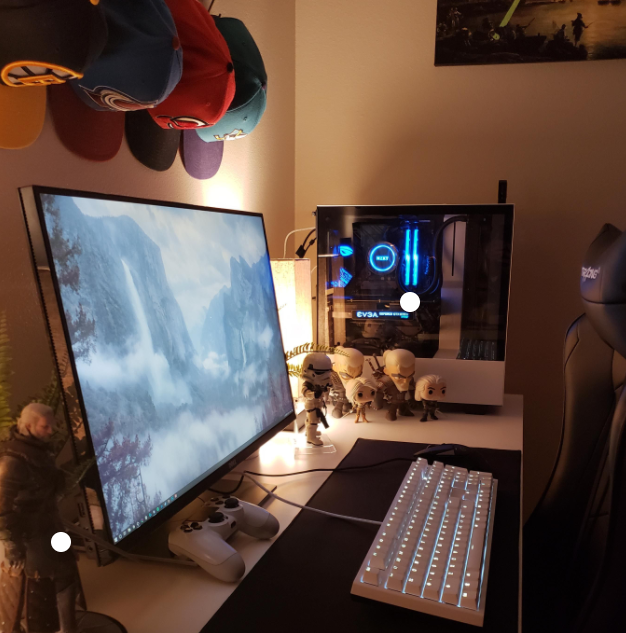gamingconsole: (167, 493, 279, 585)
